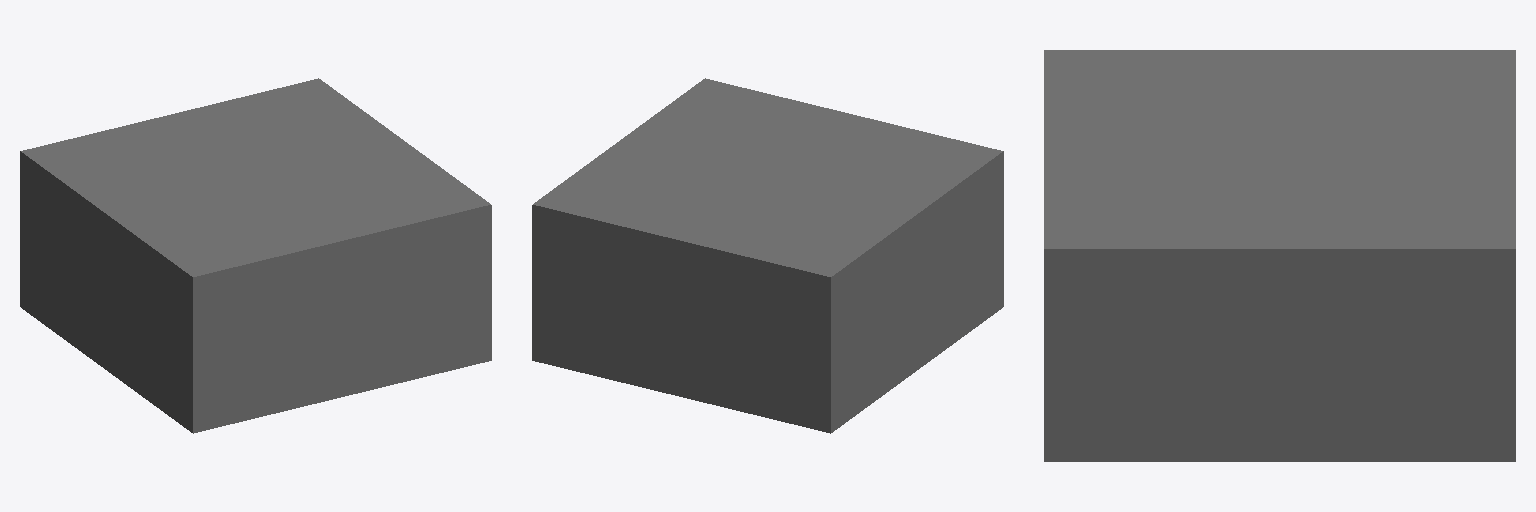
robot.urdf — rectangular_block:
<?xml version="1.0"?>
<robot name="rectangular_block">
    <link name="base_link">
        <visual>
            <geometry>
                <box size="1 1 0.5"/>  <!-- Length, Width, Height -->
            </geometry>
            <material name="gray">
                <color rgba="0.5 0.5 0.5 1"/>
            </material>
        </visual>
        
        <collision>
            <geometry>
                <box size="1 1 0.5"/>
            </geometry>
        </collision>
        
        <inertial>
            <mass value="1.0"/>
            <origin xyz="0 0 0"/>
            <inertia ixx="0.01" iyy="0.01" izz="0.01" ixy="0" ixz="0" iyz="0"/>
        </inertial>
    </link>
</robot>

--- Facts derived from the render (not from the file) ---
3 views of the same robot in one strip: view 1: azimuth 30°, elevation 25°; view 2: azimuth 150°, elevation 25°; view 3: azimuth 270°, elevation 25° (orthographic).
Model rectangular_block with 1 links and 0 joints (none), rooted at base_link, posed every joint at zero.
Links seen in each view (by area): view 1: base_link; view 2: base_link; view 3: base_link.
Link boxes in pixels (<box>): base_link: <box>20,78,491,433</box>; base_link: <box>532,78,1003,433</box>; base_link: <box>1044,50,1515,461</box>.
Bounding box of the posed robot: 1 × 1 × 0.5 m (x, y, z).
Geometry: primitives only (box / cylinder / sphere), no mesh files.